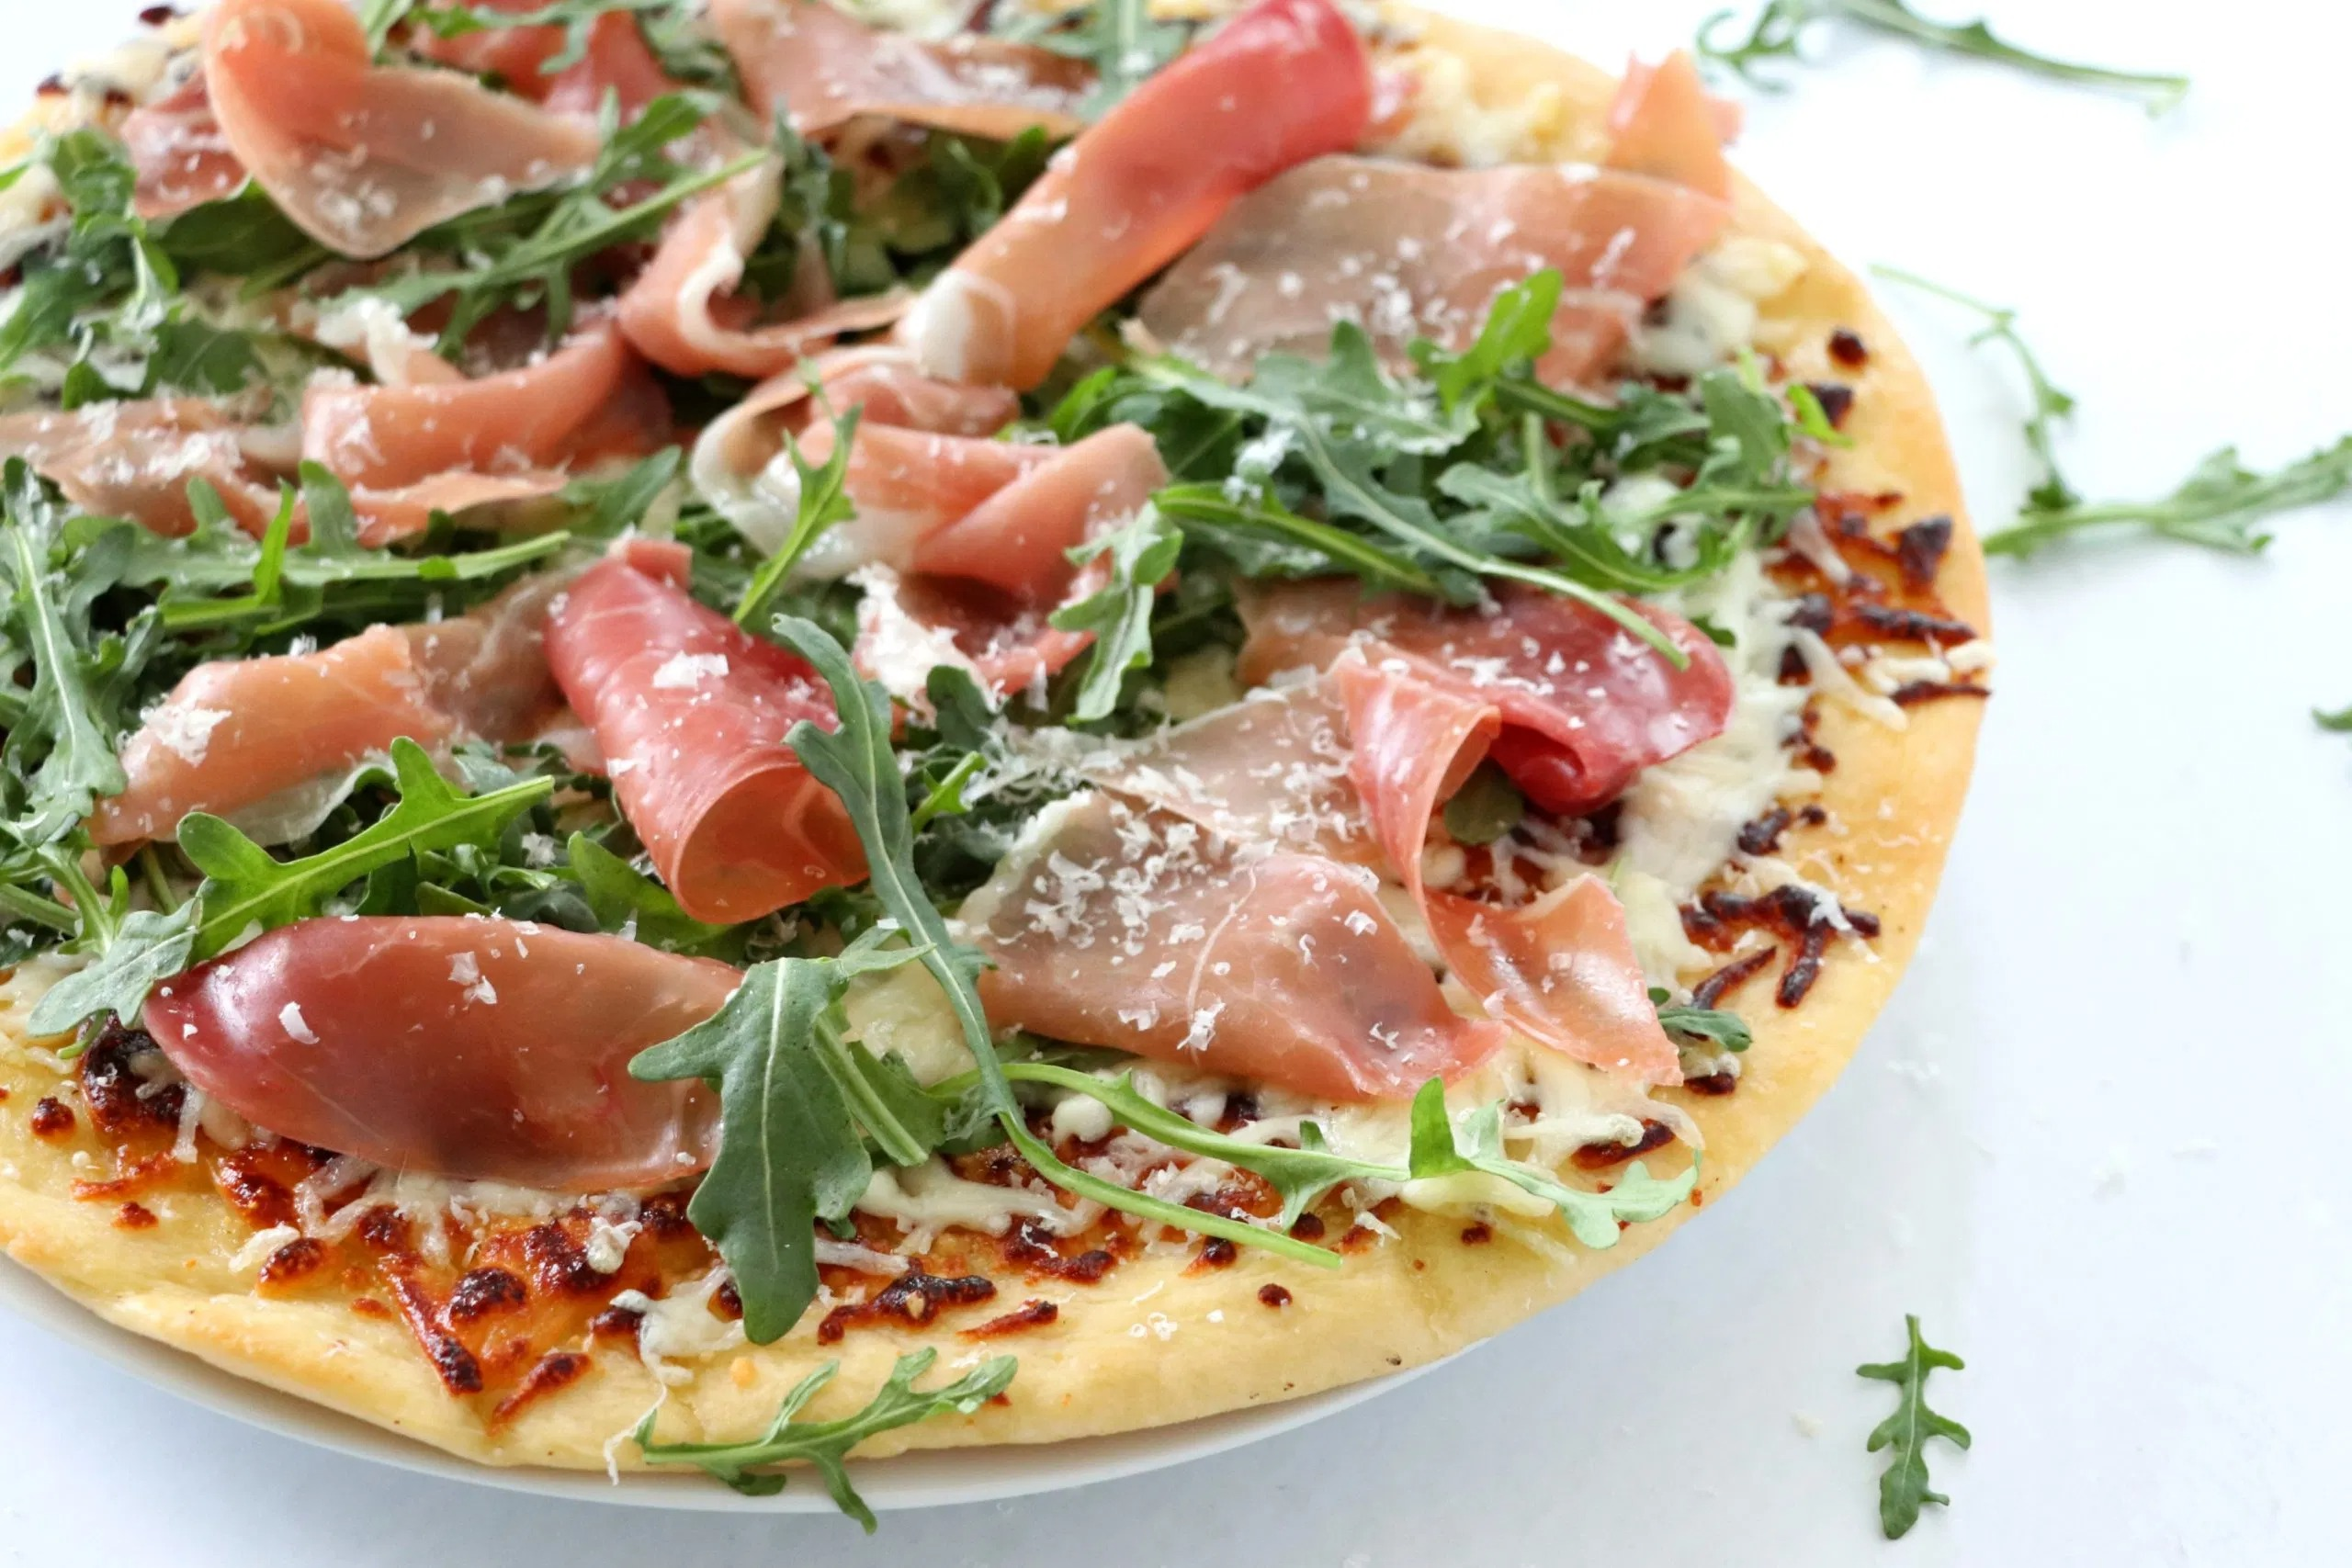Ham: (1125, 581, 1713, 1097), (857, 0, 1405, 406), (1153, 67, 1732, 427), (138, 915, 751, 1193), (990, 789, 1505, 1102), (716, 359, 1165, 700), (9, 327, 672, 537), (94, 0, 604, 242), (66, 584, 544, 842), (546, 553, 877, 920), (703, 3, 1078, 154), (609, 182, 905, 371)
Pizza: (0, 3, 1977, 1484), (1225, 572, 1725, 802)
